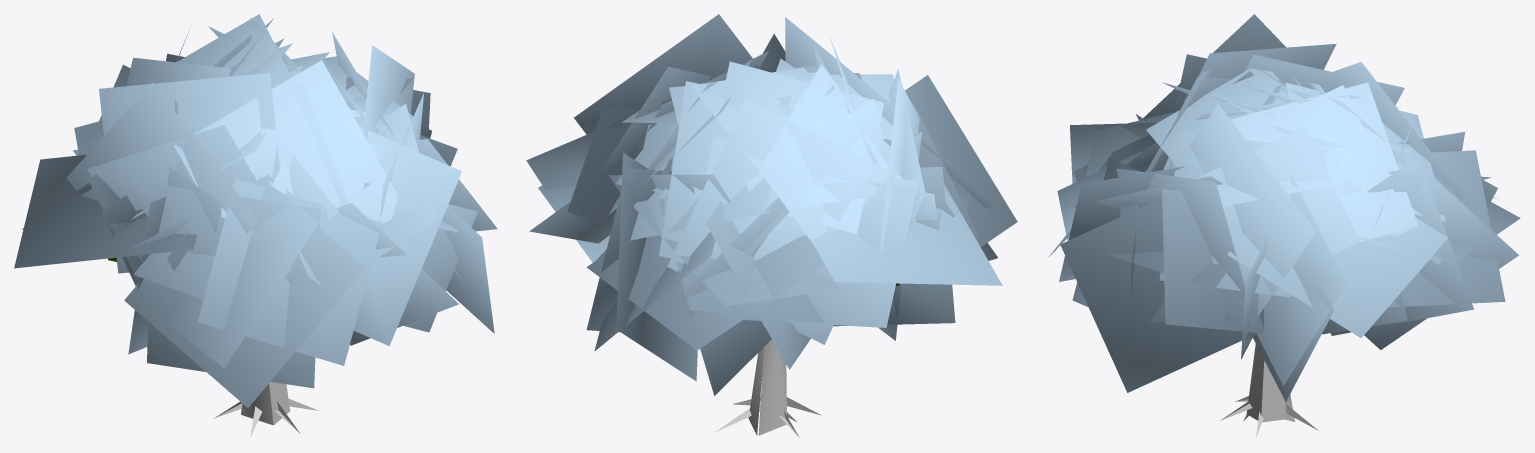
File: foliage.linden_broad.gltf
3 renders of one model, left to right at view 1: azimuth 30°, elevation 25°; view 2: azimuth 150°, elevation 25°; view 3: azimuth 270°, elevation 25°, orthographic. The views are drawn at different scales.
Parts seen in each view (by area): view 1: lod, lod.001; view 2: lod, lod.001; view 3: lod, lod.001.
Part boxes in pixels (bbox=[...]): lod: bbox=[14, 14, 497, 407]; lod.001: bbox=[214, 382, 318, 438]; lod: bbox=[526, 14, 1017, 395]; lod.001: bbox=[716, 339, 821, 438]; lod: bbox=[1047, 14, 1520, 401]; lod.001: bbox=[1220, 344, 1318, 437].
Size of the model in its own units: 11.89 by 9.69 by 11.57.
